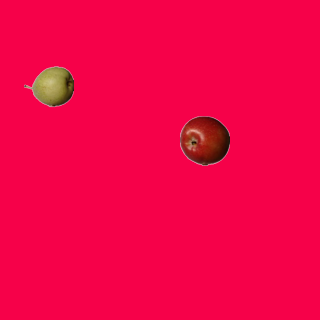Apple Braeburn: (179, 115, 229, 165)
Pear: (23, 61, 73, 111)
